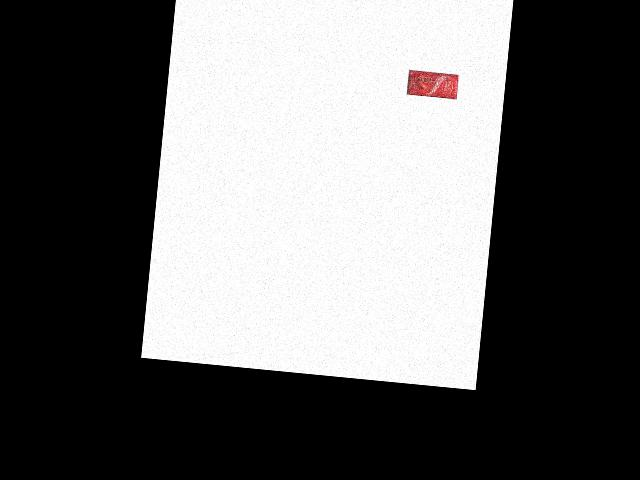chocolate: (402, 67, 460, 100)
